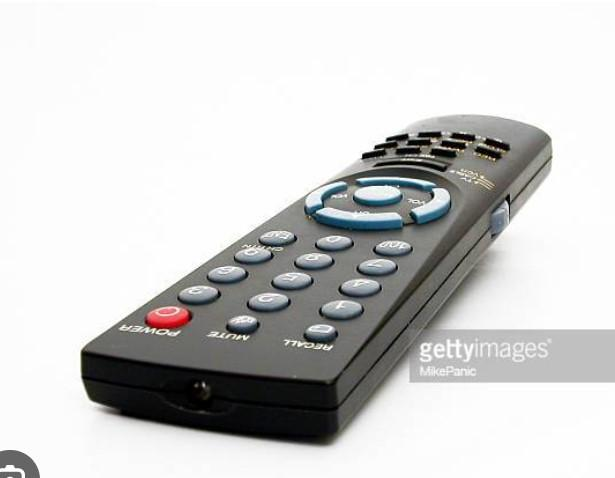Remote control: (81, 114, 554, 446)
